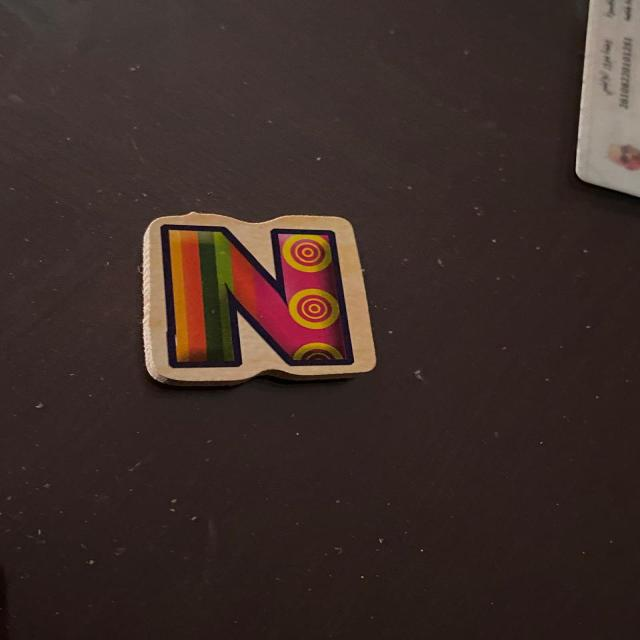N: (143, 212, 375, 386)
